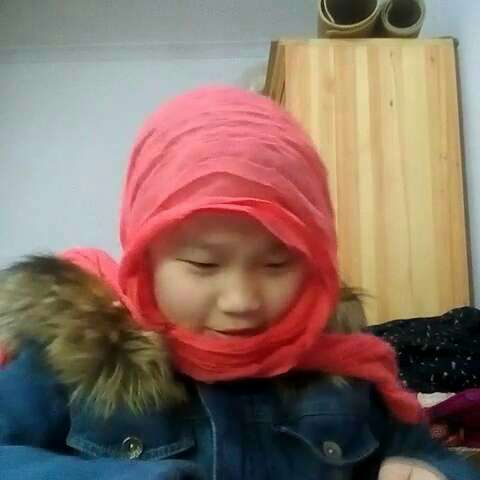face: (152, 200, 307, 368)
